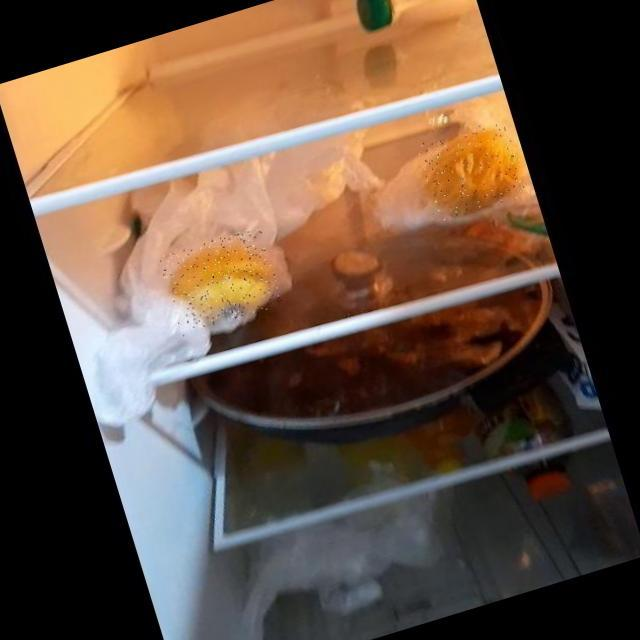Limón: (158, 226, 284, 336), (416, 117, 530, 221)
